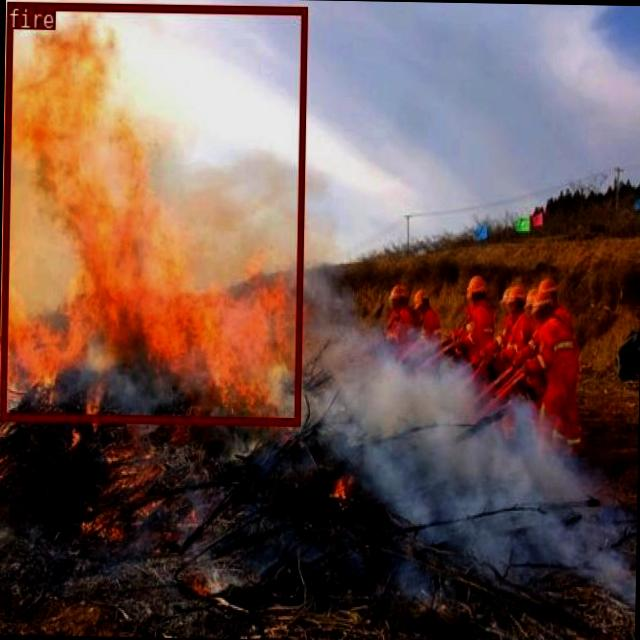fire: (0, 1, 305, 423)
